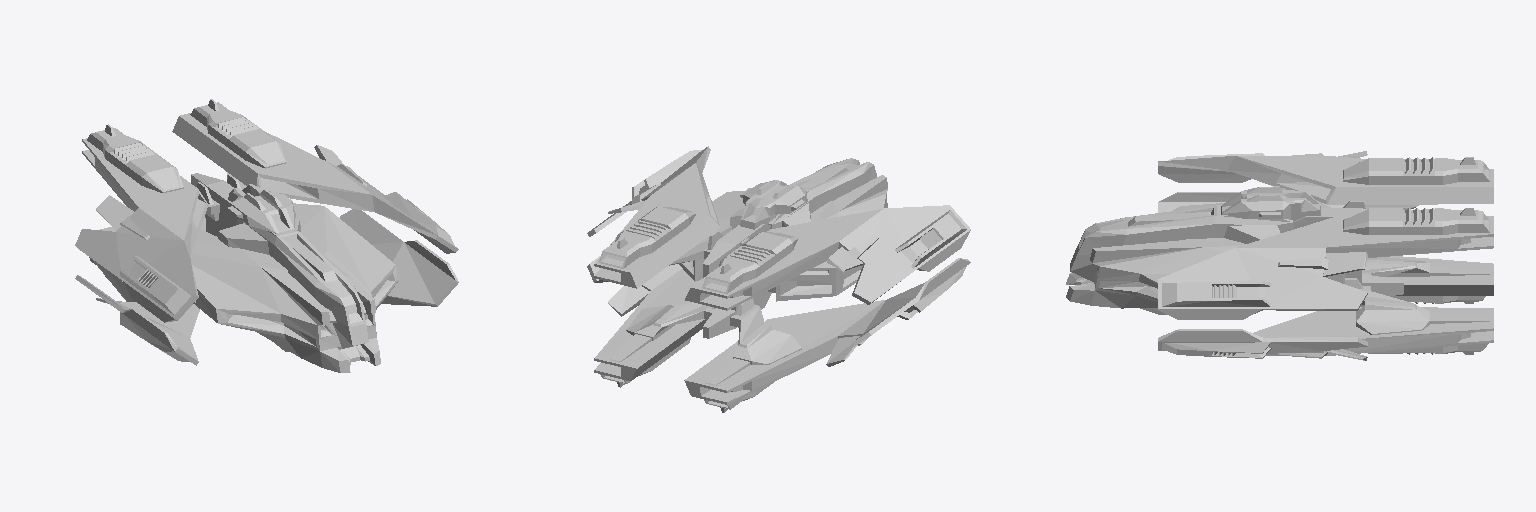
The model's file is SciFi_Fighter.obj.
3 views of the same model, side by side, from view 1: azimuth 30°, elevation 25°; view 2: azimuth 150°, elevation 25°; view 3: azimuth 270°, elevation 25° (orthographic).
Visible parts, largest first — view 1: SciFi_Fighter; view 2: SciFi_Fighter; view 3: SciFi_Fighter.
Part boxes in pixels (bbox=[...]): SciFi_Fighter: bbox=[75, 99, 458, 372]; SciFi_Fighter: bbox=[587, 146, 970, 412]; SciFi_Fighter: bbox=[1066, 151, 1493, 360].
Size of the model in its own units: 15.44 by 7.48 by 19.82.